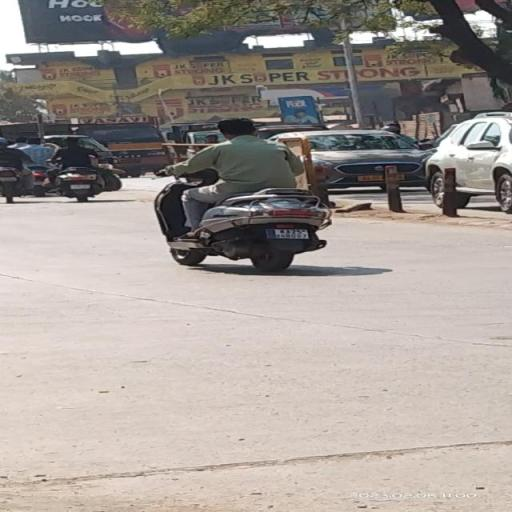bike: (150, 115, 342, 272)
withouthelmet: (219, 117, 255, 136)
